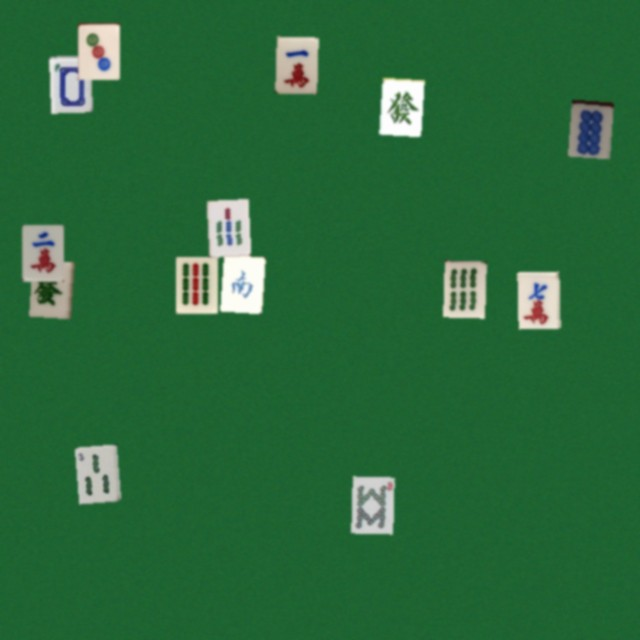tile: (443, 260, 485, 317), (220, 254, 262, 311), (175, 256, 217, 313), (275, 36, 317, 93), (29, 259, 71, 316), (48, 55, 90, 112), (567, 99, 609, 156), (74, 444, 116, 501), (206, 198, 248, 255), (21, 224, 63, 281), (517, 271, 559, 328), (379, 77, 421, 134), (77, 22, 119, 79), (351, 476, 393, 533)
